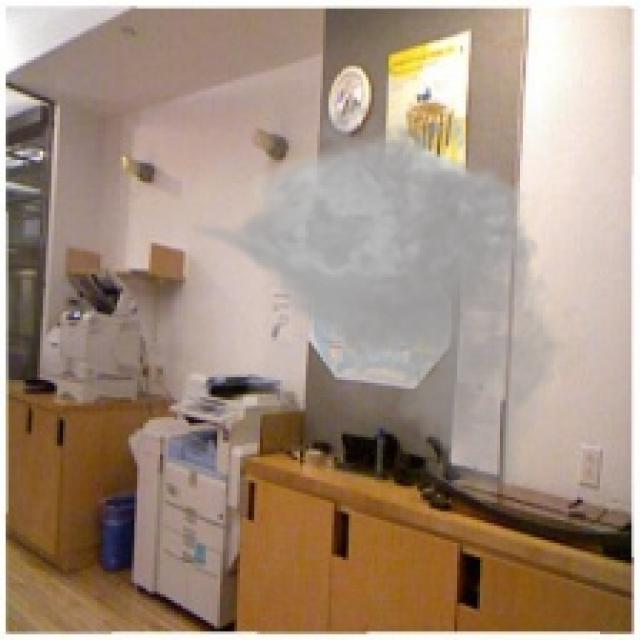smoke: (183, 88, 580, 503)
